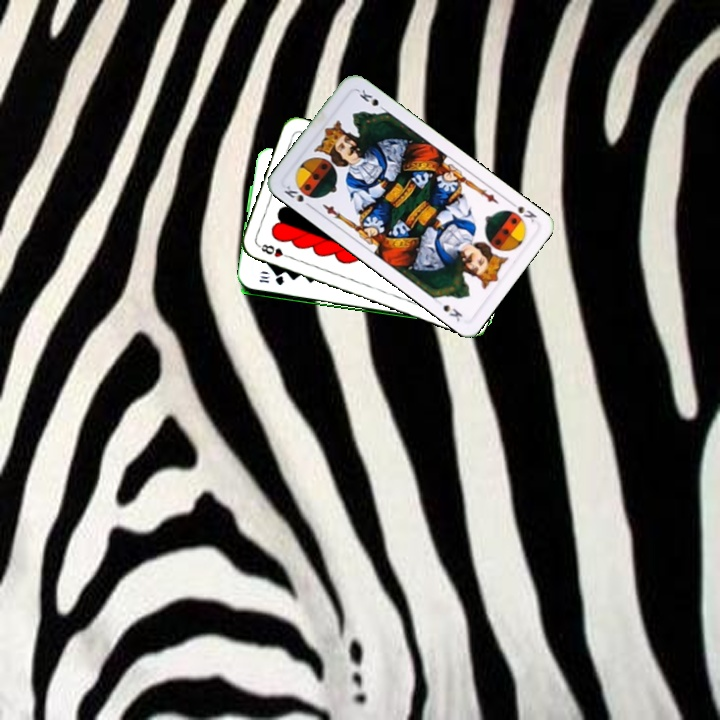G10: (255, 272, 287, 287)
H8: (254, 240, 294, 261)
SK: (280, 181, 315, 211), (505, 196, 540, 225)
